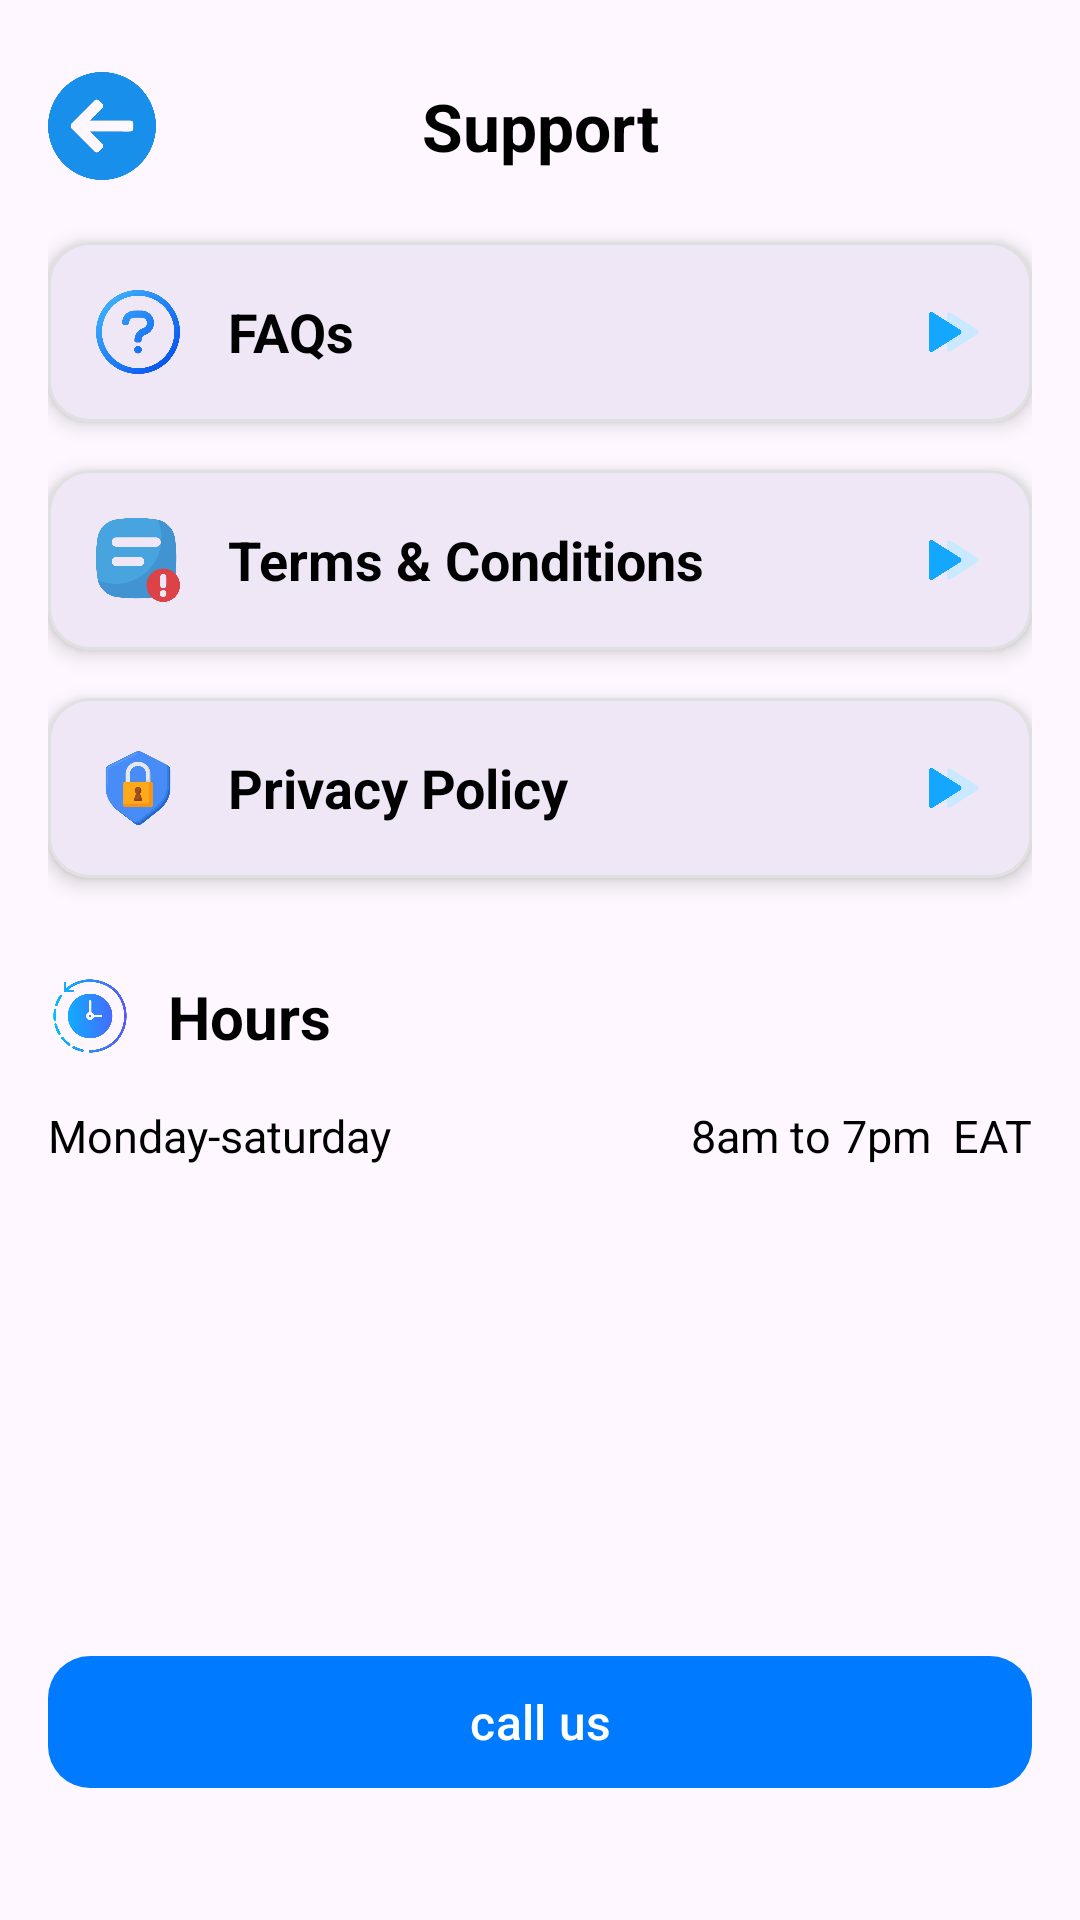

Where to tap for icons on this 1080 x 1920 app screen, as (x=x, y=y):
arrow: (x=954, y=332), (x=954, y=560), (x=954, y=788)
clock: (x=90, y=1016)
left arrow: (x=102, y=126)
question: (x=138, y=332)
